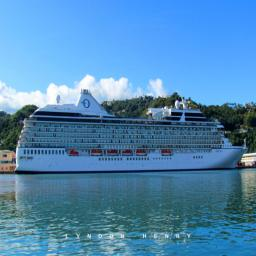cruises: (14, 89, 250, 178)
